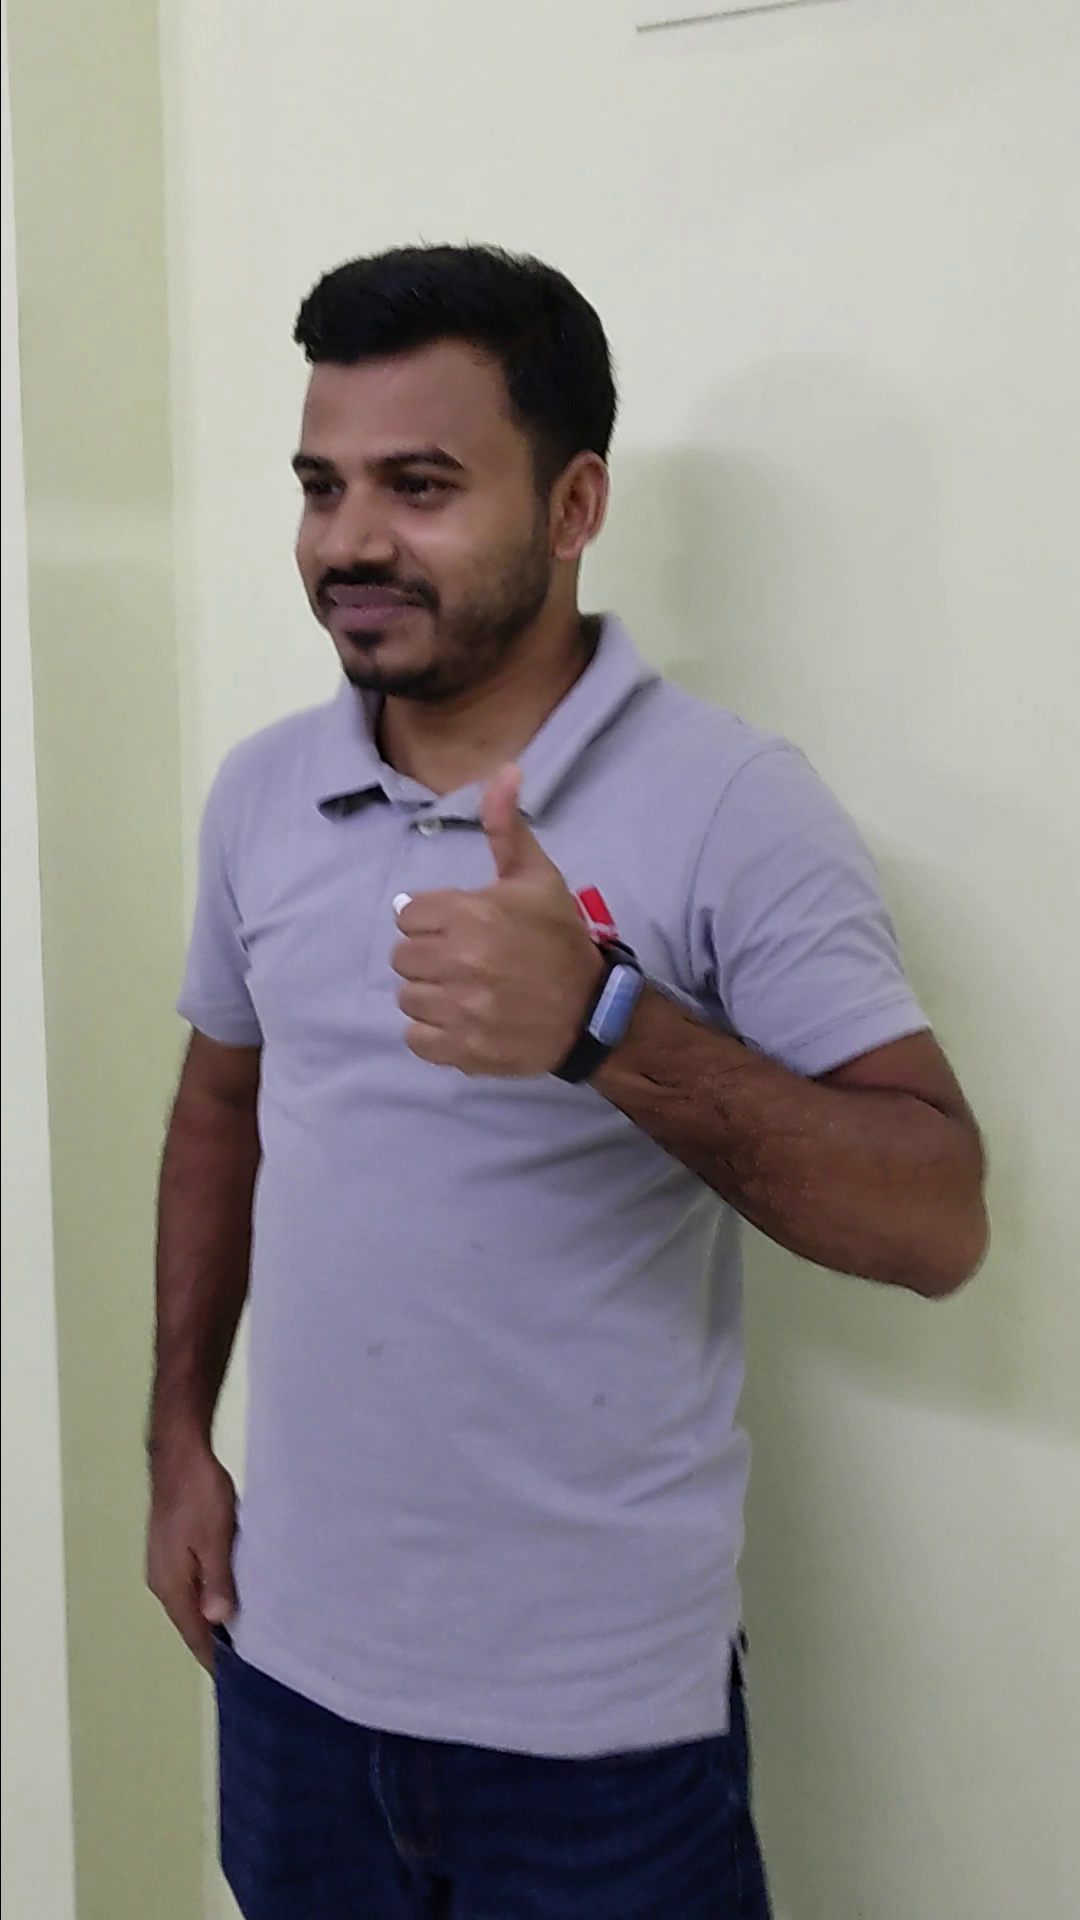Like: (382, 764, 622, 1101)
None: (112, 1411, 258, 1705)
